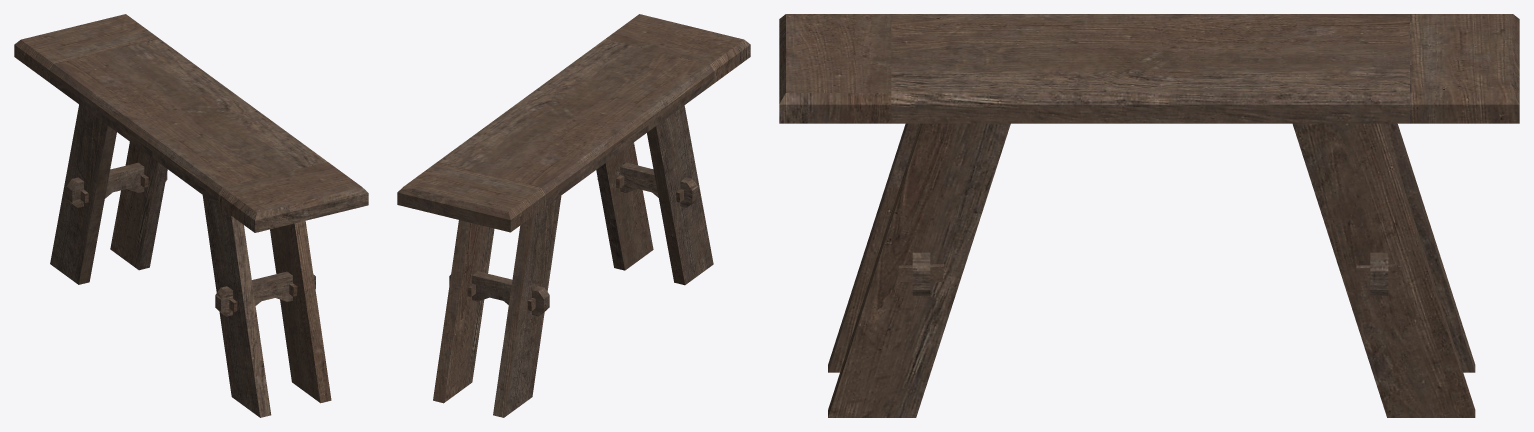
File: mw_table_small_02.FBX
The picture shows the model from 3 angles, left to right: view 1: azimuth 30°, elevation 25°; view 2: azimuth 150°, elevation 25°; view 3: azimuth 270°, elevation 25°; orthographic projection. The views are drawn at different scales.
Visible parts, largest first — view 1: mw_table_small_02; view 2: mw_table_small_02; view 3: mw_table_small_02.
Part boxes in pixels (x1,y1,x2,y2): mw_table_small_02: [14, 14, 368, 417]; mw_table_small_02: [397, 14, 750, 417]; mw_table_small_02: [779, 14, 1519, 417].
Size of the model in its own units: 51.42 by 94.9 by 189.
